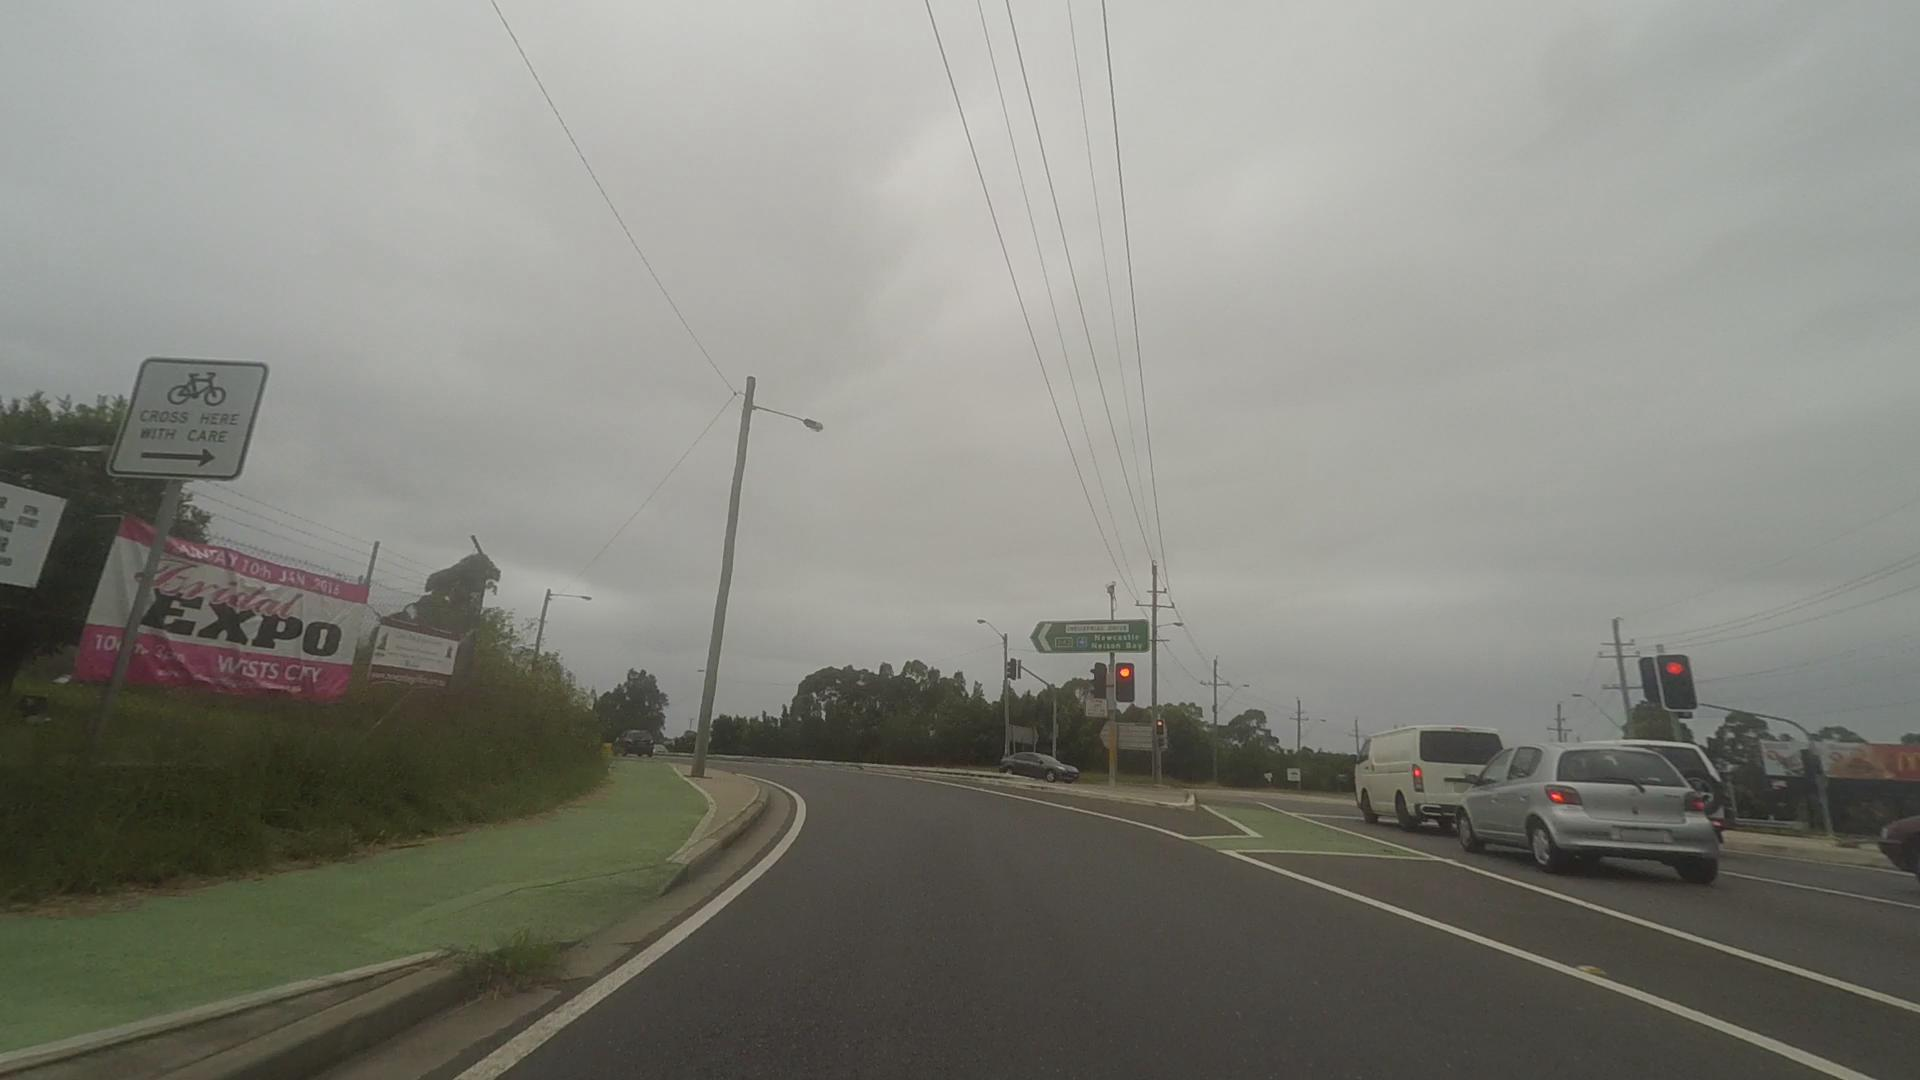vinyl banner: (71, 471, 371, 738), (1809, 723, 1920, 794)
